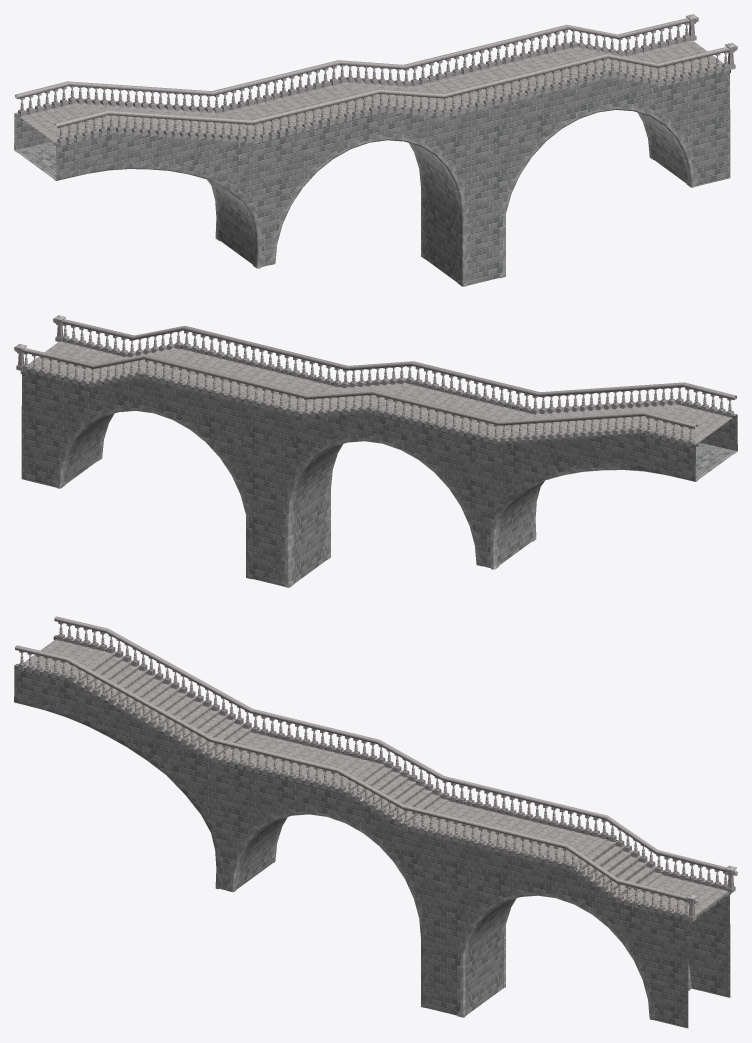
File: Big_Bridge.fbx
3 views of the same model, one above another, from view 1: azimuth 30°, elevation 25°; view 2: azimuth 150°, elevation 25°; view 3: azimuth 330°, elevation 25° (orthographic).
Visible parts, largest first — view 1: Big_Bridge_LOD0; view 2: Big_Bridge_LOD0; view 3: Big_Bridge_LOD0.
Part boxes in pixels (left/top/right/bottom): Big_Bridge_LOD0: left=14, top=14, right=737, bottom=286; Big_Bridge_LOD0: left=14, top=315, right=737, bottom=587; Big_Bridge_LOD0: left=14, top=616, right=737, bottom=1028.
Size of what is drawn, in the model's own units: 3142 by 1151 by 346.
